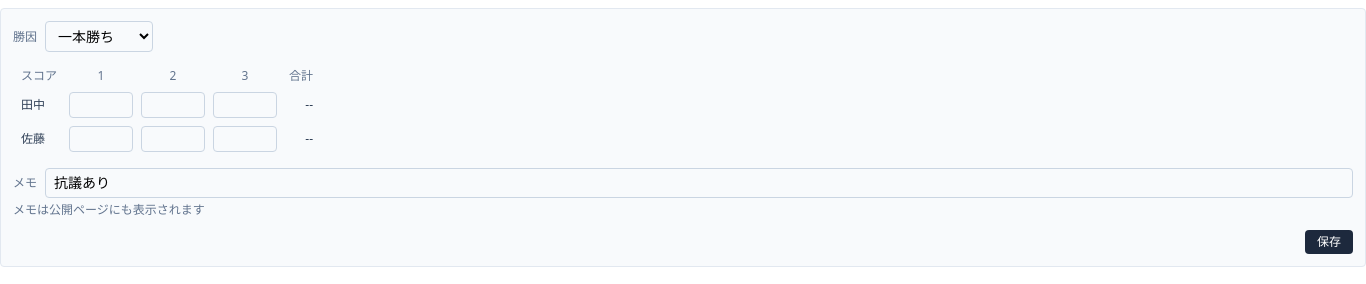
Test: MatchResultDetailForm › 集計値が入力に追従する
This screenshot has width=1366, height=284.
Type "7" into the number field named "田中 のスコア 1".
click(101, 105); type("7")  # box [69,92,133,118]
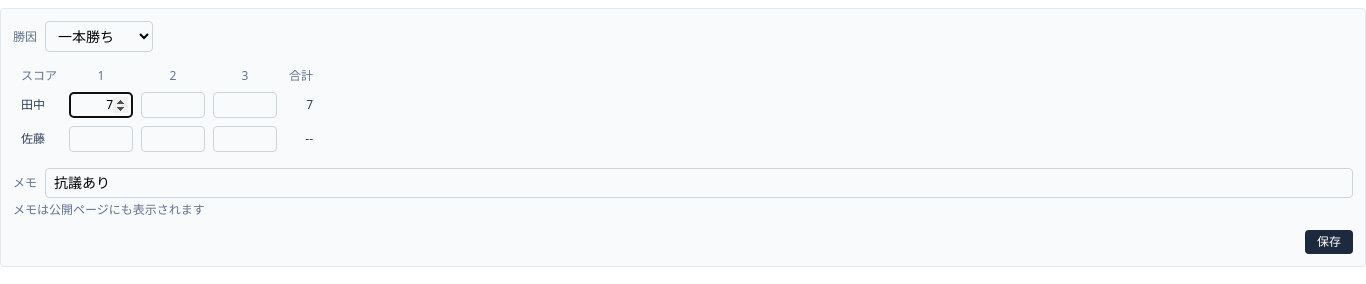
Type "6" into the number field named "田中 のスコア 2".
click(173, 105); type("6")  # box [141,92,205,118]
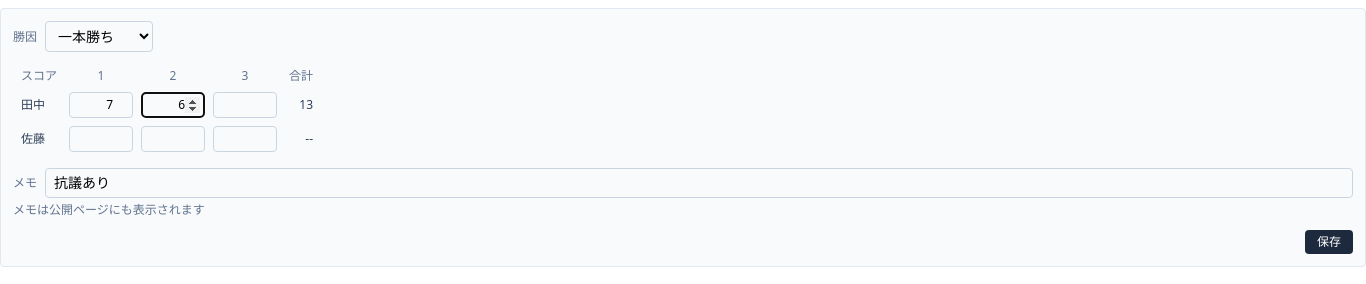
Now the cell with test id "aggregate-e1" reads "13", box [299,96,313,113]
